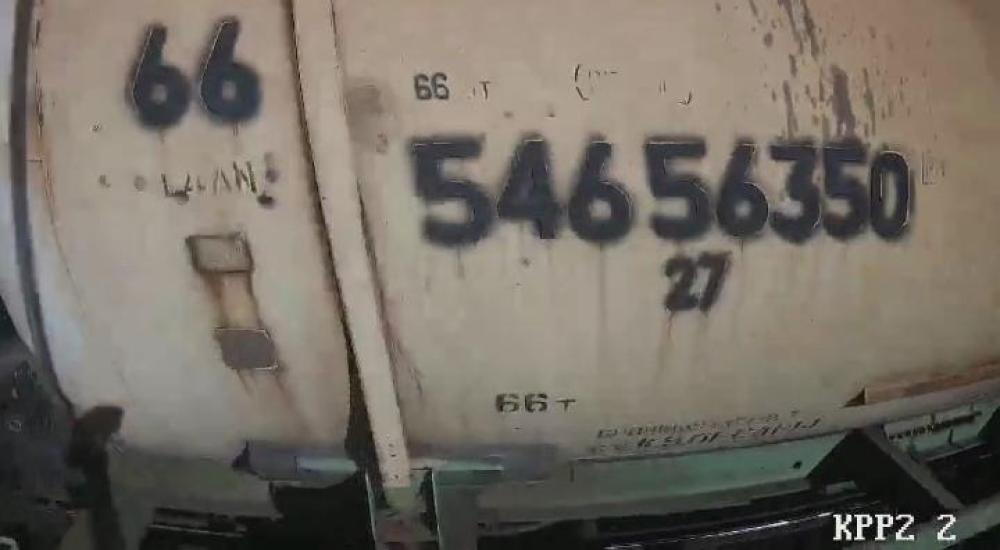Wagon-number: (403, 131, 918, 248)
